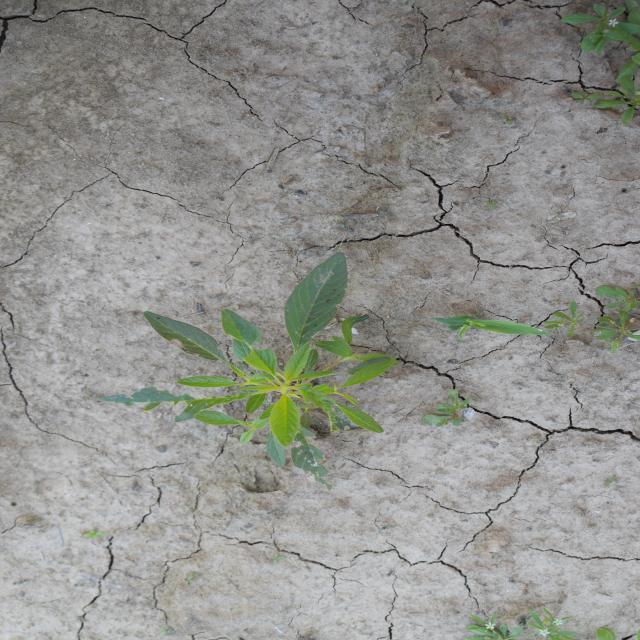Carpetweed: (549, 5, 639, 130), (543, 283, 638, 355), (465, 607, 593, 639), (416, 386, 477, 430)
Waterhemp: (80, 250, 400, 493)
